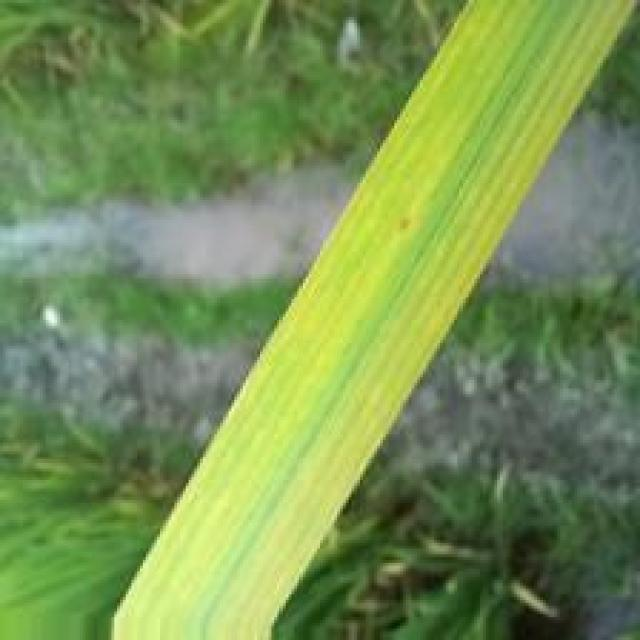Brown_Spot: (392, 217, 414, 238)
